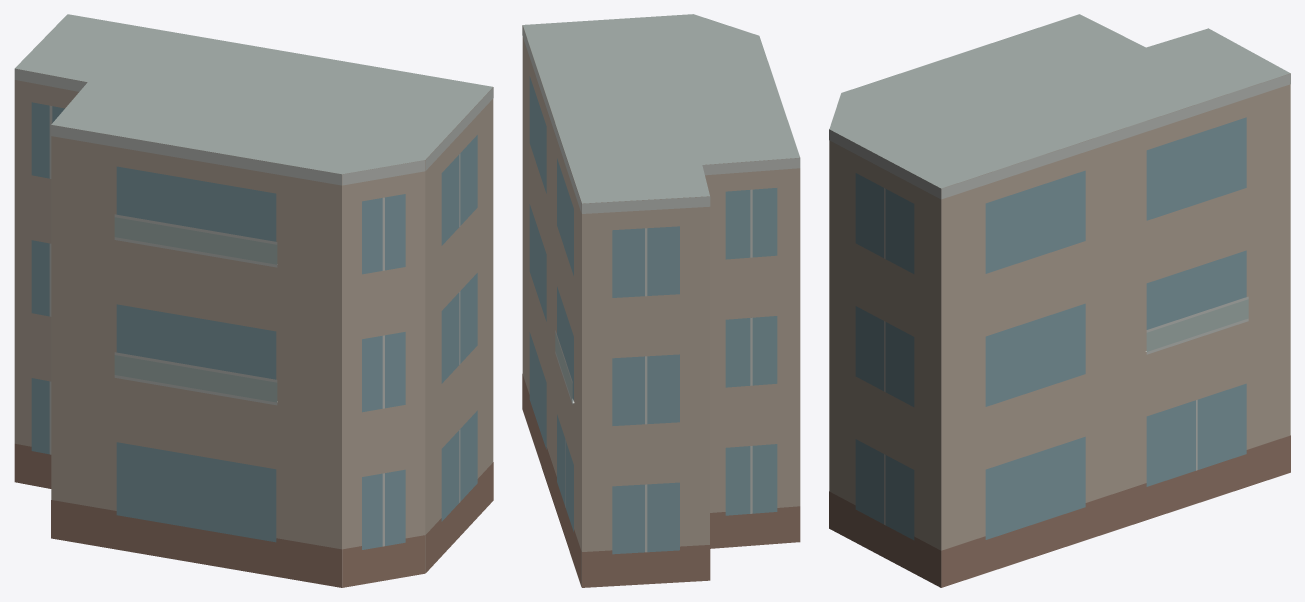
The model's file is survey-upis-32978010.glb.
3 renders of one model, left to right at view 1: azimuth 30°, elevation 25°; view 2: azimuth 150°, elevation 25°; view 3: azimuth 270°, elevation 25°, orthographic. The views are drawn at different scales.
Parts seen in each view (by area): view 1: survey-upis-32978010.tmp; view 2: survey-upis-32978010.tmp; view 3: survey-upis-32978010.tmp.
Part boxes in pixels (x1=…): survey-upis-32978010.tmp: x1=14, y1=14, x2=493, y2=587; survey-upis-32978010.tmp: x1=522, y1=14, x2=800, y2=587; survey-upis-32978010.tmp: x1=829, y1=14, x2=1290, y2=587.
Bounding box in the file's own units: 8.35 × 8.9 × 9.33.
